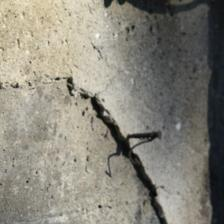Crack: (35, 39, 130, 179)
